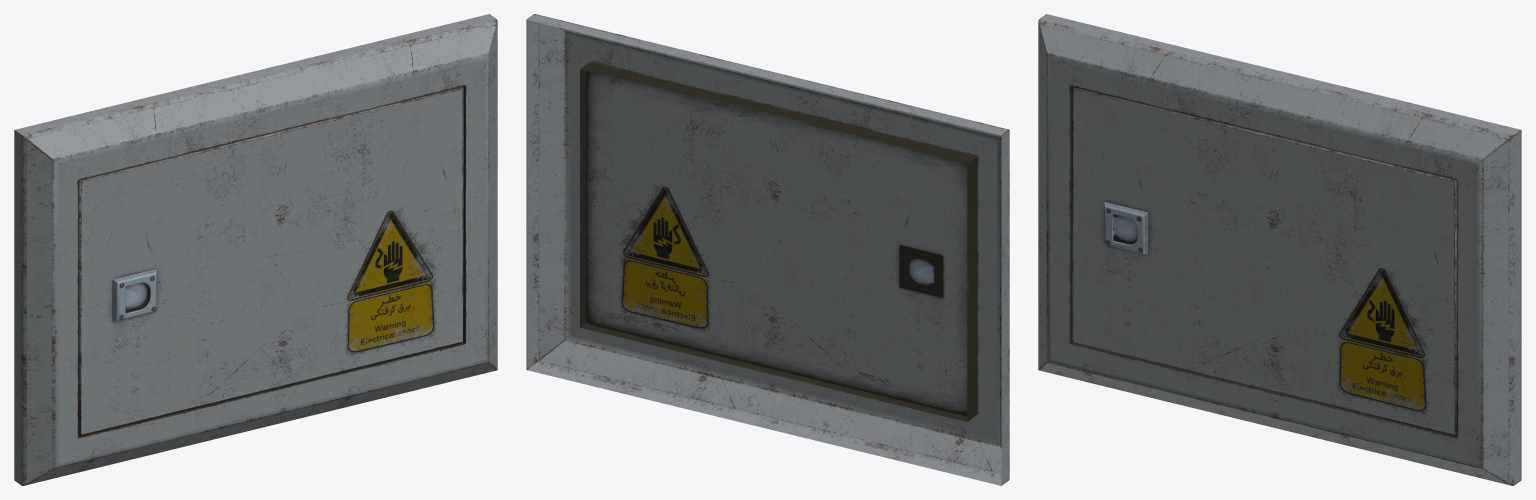
The model's file is quadro.glb.
3 renders of one model, left to right at view 1: azimuth 30°, elevation 25°; view 2: azimuth 150°, elevation 25°; view 3: azimuth 330°, elevation 25°, orthographic.
Visible parts, largest first — view 1: Cube_1, Cube, Boole; view 2: Cube_1, Cube; view 3: Cube_1, Cube, Boole.
Boxes of the visible parts, box(x1,y1,x2,y2) form: Cube_1: box(78, 86, 463, 436); Cube: box(14, 14, 497, 485); Boole: box(112, 268, 156, 321); Cube_1: box(585, 63, 974, 416); Cube: box(526, 14, 1009, 485); Cube_1: box(1072, 86, 1457, 436); Cube: box(1038, 14, 1521, 485); Boole: box(1104, 202, 1148, 254).
Size of the model in its own units: 5.15 by 3.63 by 0.4275.
1 material, 1 textured.
